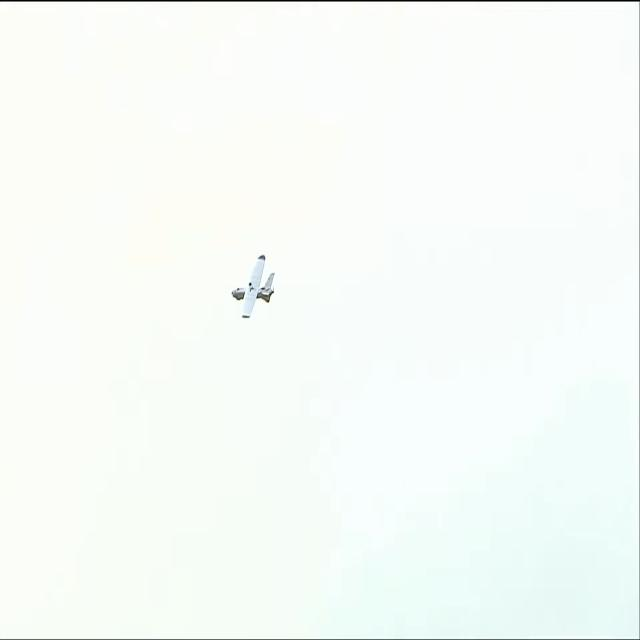iha: (230, 285, 275, 287)
